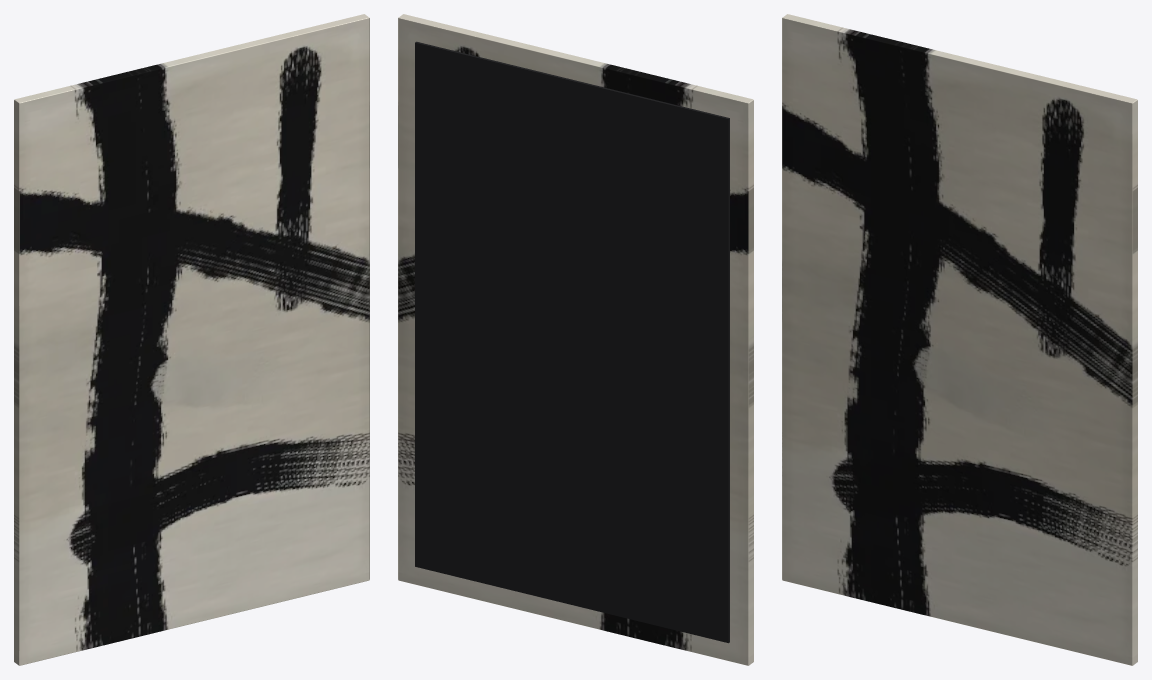
The model's file is living_art_tall.gltf.
3 views of the same model, side by side, from view 1: azimuth 30°, elevation 25°; view 2: azimuth 150°, elevation 25°; view 3: azimuth 330°, elevation 25° (orthographic).
Visible parts, largest first — view 1: LivingArtTall_Art; view 2: LivingArtTall_Spacer, LivingArtTall_Art; view 3: LivingArtTall_Art.
Boxes of the visible parts, x1,y1,x2,y2 form: LivingArtTall_Art: (14, 14, 369, 665); LivingArtTall_Spacer: (415, 41, 729, 643); LivingArtTall_Art: (398, 14, 753, 665); LivingArtTall_Art: (782, 14, 1137, 665).
Size of the model in its own units: 1.5 by 2.3 by 0.05.
2 materials, 1 textured.
